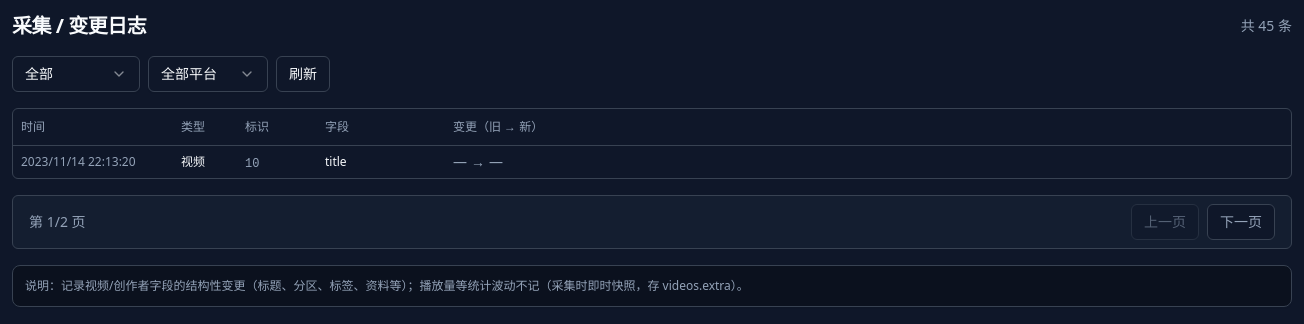
Test: 分页：下一页写 URL page=2 重拉；上一页回落 page 删除；边界禁用
The width and height of the screenshot is (1304, 324).
Expected: the text "第 1/2 页" is shown, [29,212,86,232]
Expected: the button "上一页" is disabled, [1131,204,1199,240]
What coordinates should you click on to do the following:
click the button "下一页"
I would click on:
 (1241, 222)
Its box is [1207,204,1275,240].
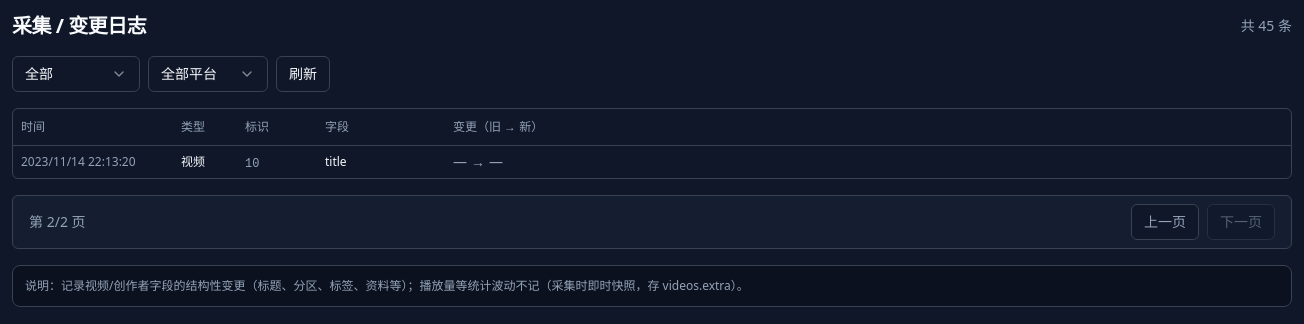
Now the text "第 2/2 页" is shown, box [29,212,86,232]
Now the button "下一页" is disabled, box [1207,204,1275,240]
Now the button "上一页" is enabled
What coordinates should you click on to do the following:
click the button "上一页"
I would click on:
 (1165, 222)
Its box is [1131,204,1199,240].
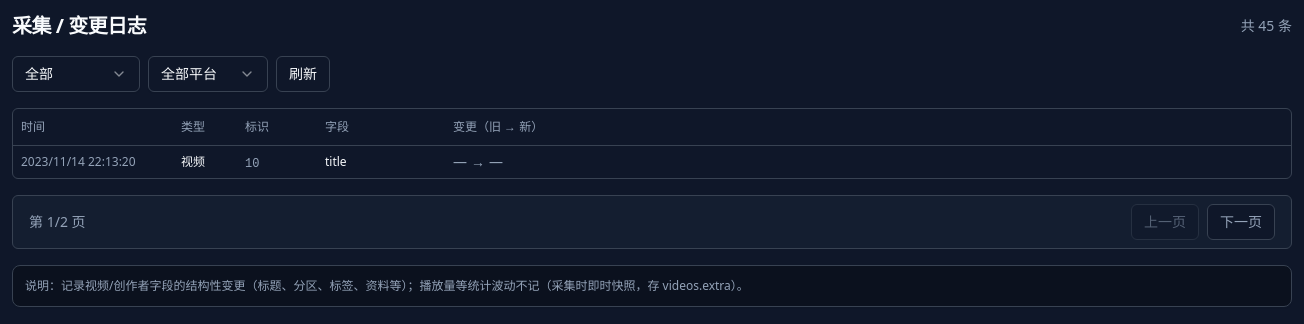
Now the text "第 1/2 页" is shown, box [29,212,86,232]
